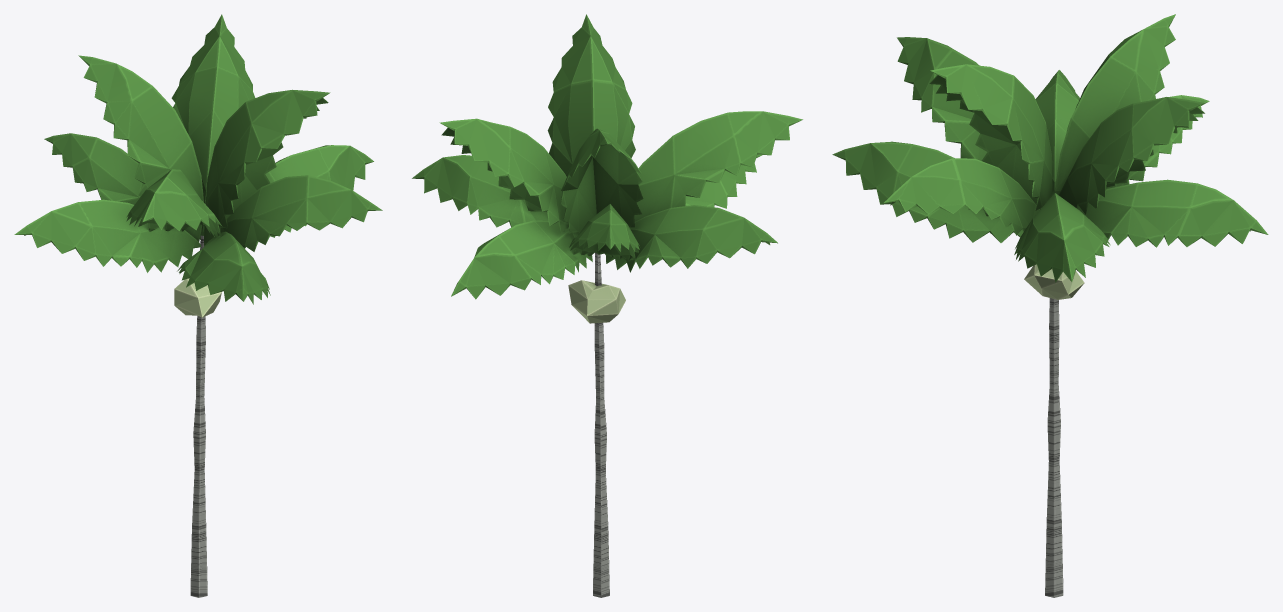
The model's file is Palm tree.glb.
The picture shows the model from 3 angles, left to right: view 1: azimuth 30°, elevation 25°; view 2: azimuth 150°, elevation 25°; view 3: azimuth 270°, elevation 25°; orthographic projection. The views are drawn at different scales.
Parts seen in each view (by area): view 1: WininPalmTree_mesh; view 2: WininPalmTree_mesh; view 3: WininPalmTree_mesh.
Part boxes in pixels (bbox=[...]): WininPalmTree_mesh: bbox=[14, 14, 382, 597]; WininPalmTree_mesh: bbox=[412, 14, 802, 597]; WininPalmTree_mesh: bbox=[832, 14, 1268, 597].
Bounding box in the file's own units: 9.55 × 13.12 × 9.25.
Materials: 1 (1 with a texture image).
